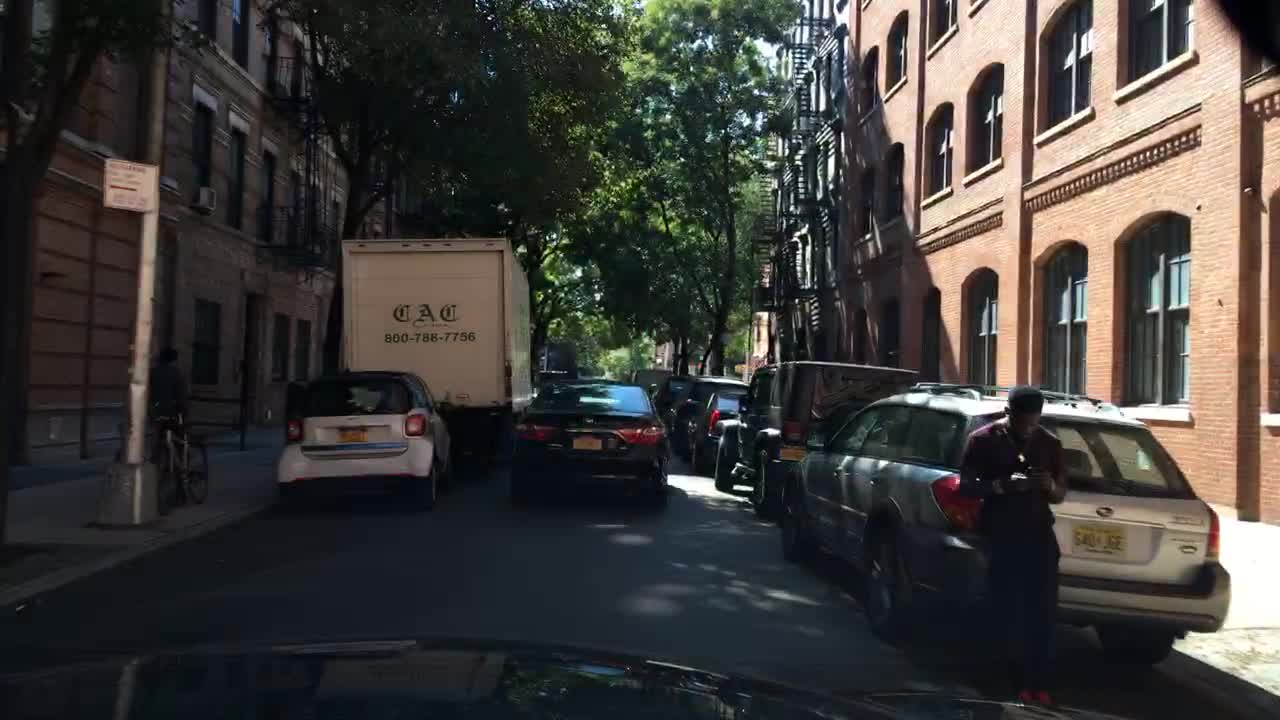bike: (139, 415, 211, 511)
car: (782, 381, 1237, 673), (711, 356, 920, 524), (272, 369, 454, 513), (509, 379, 672, 514), (679, 392, 756, 476), (665, 378, 748, 451), (652, 375, 696, 427), (632, 369, 675, 389)
person: (956, 385, 1069, 708)
rider: (146, 346, 192, 468)
traffic sign: (100, 157, 159, 212)
truck: (334, 233, 536, 484)
